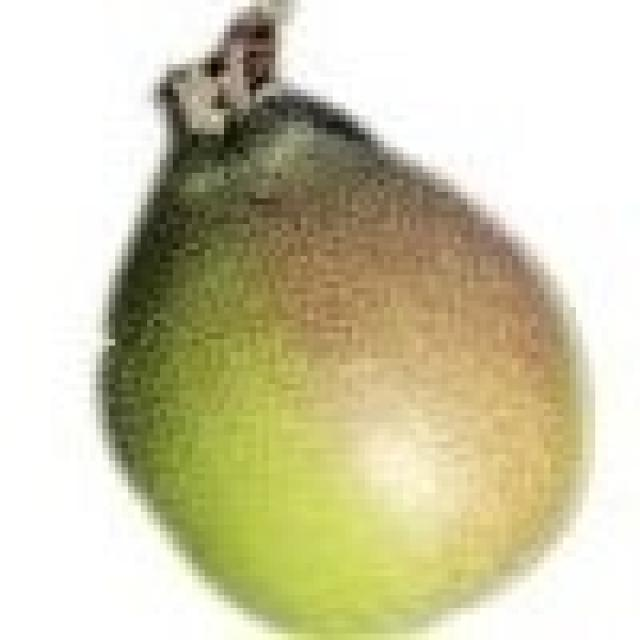20-_ripeness: (101, 51, 602, 640)
